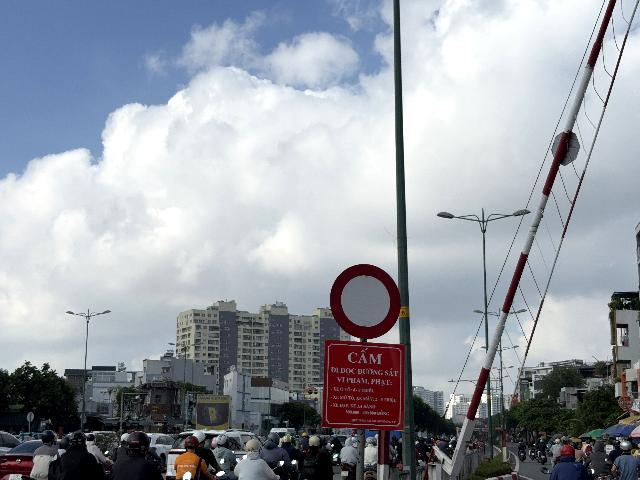duong-cam: (330, 264, 402, 339)
